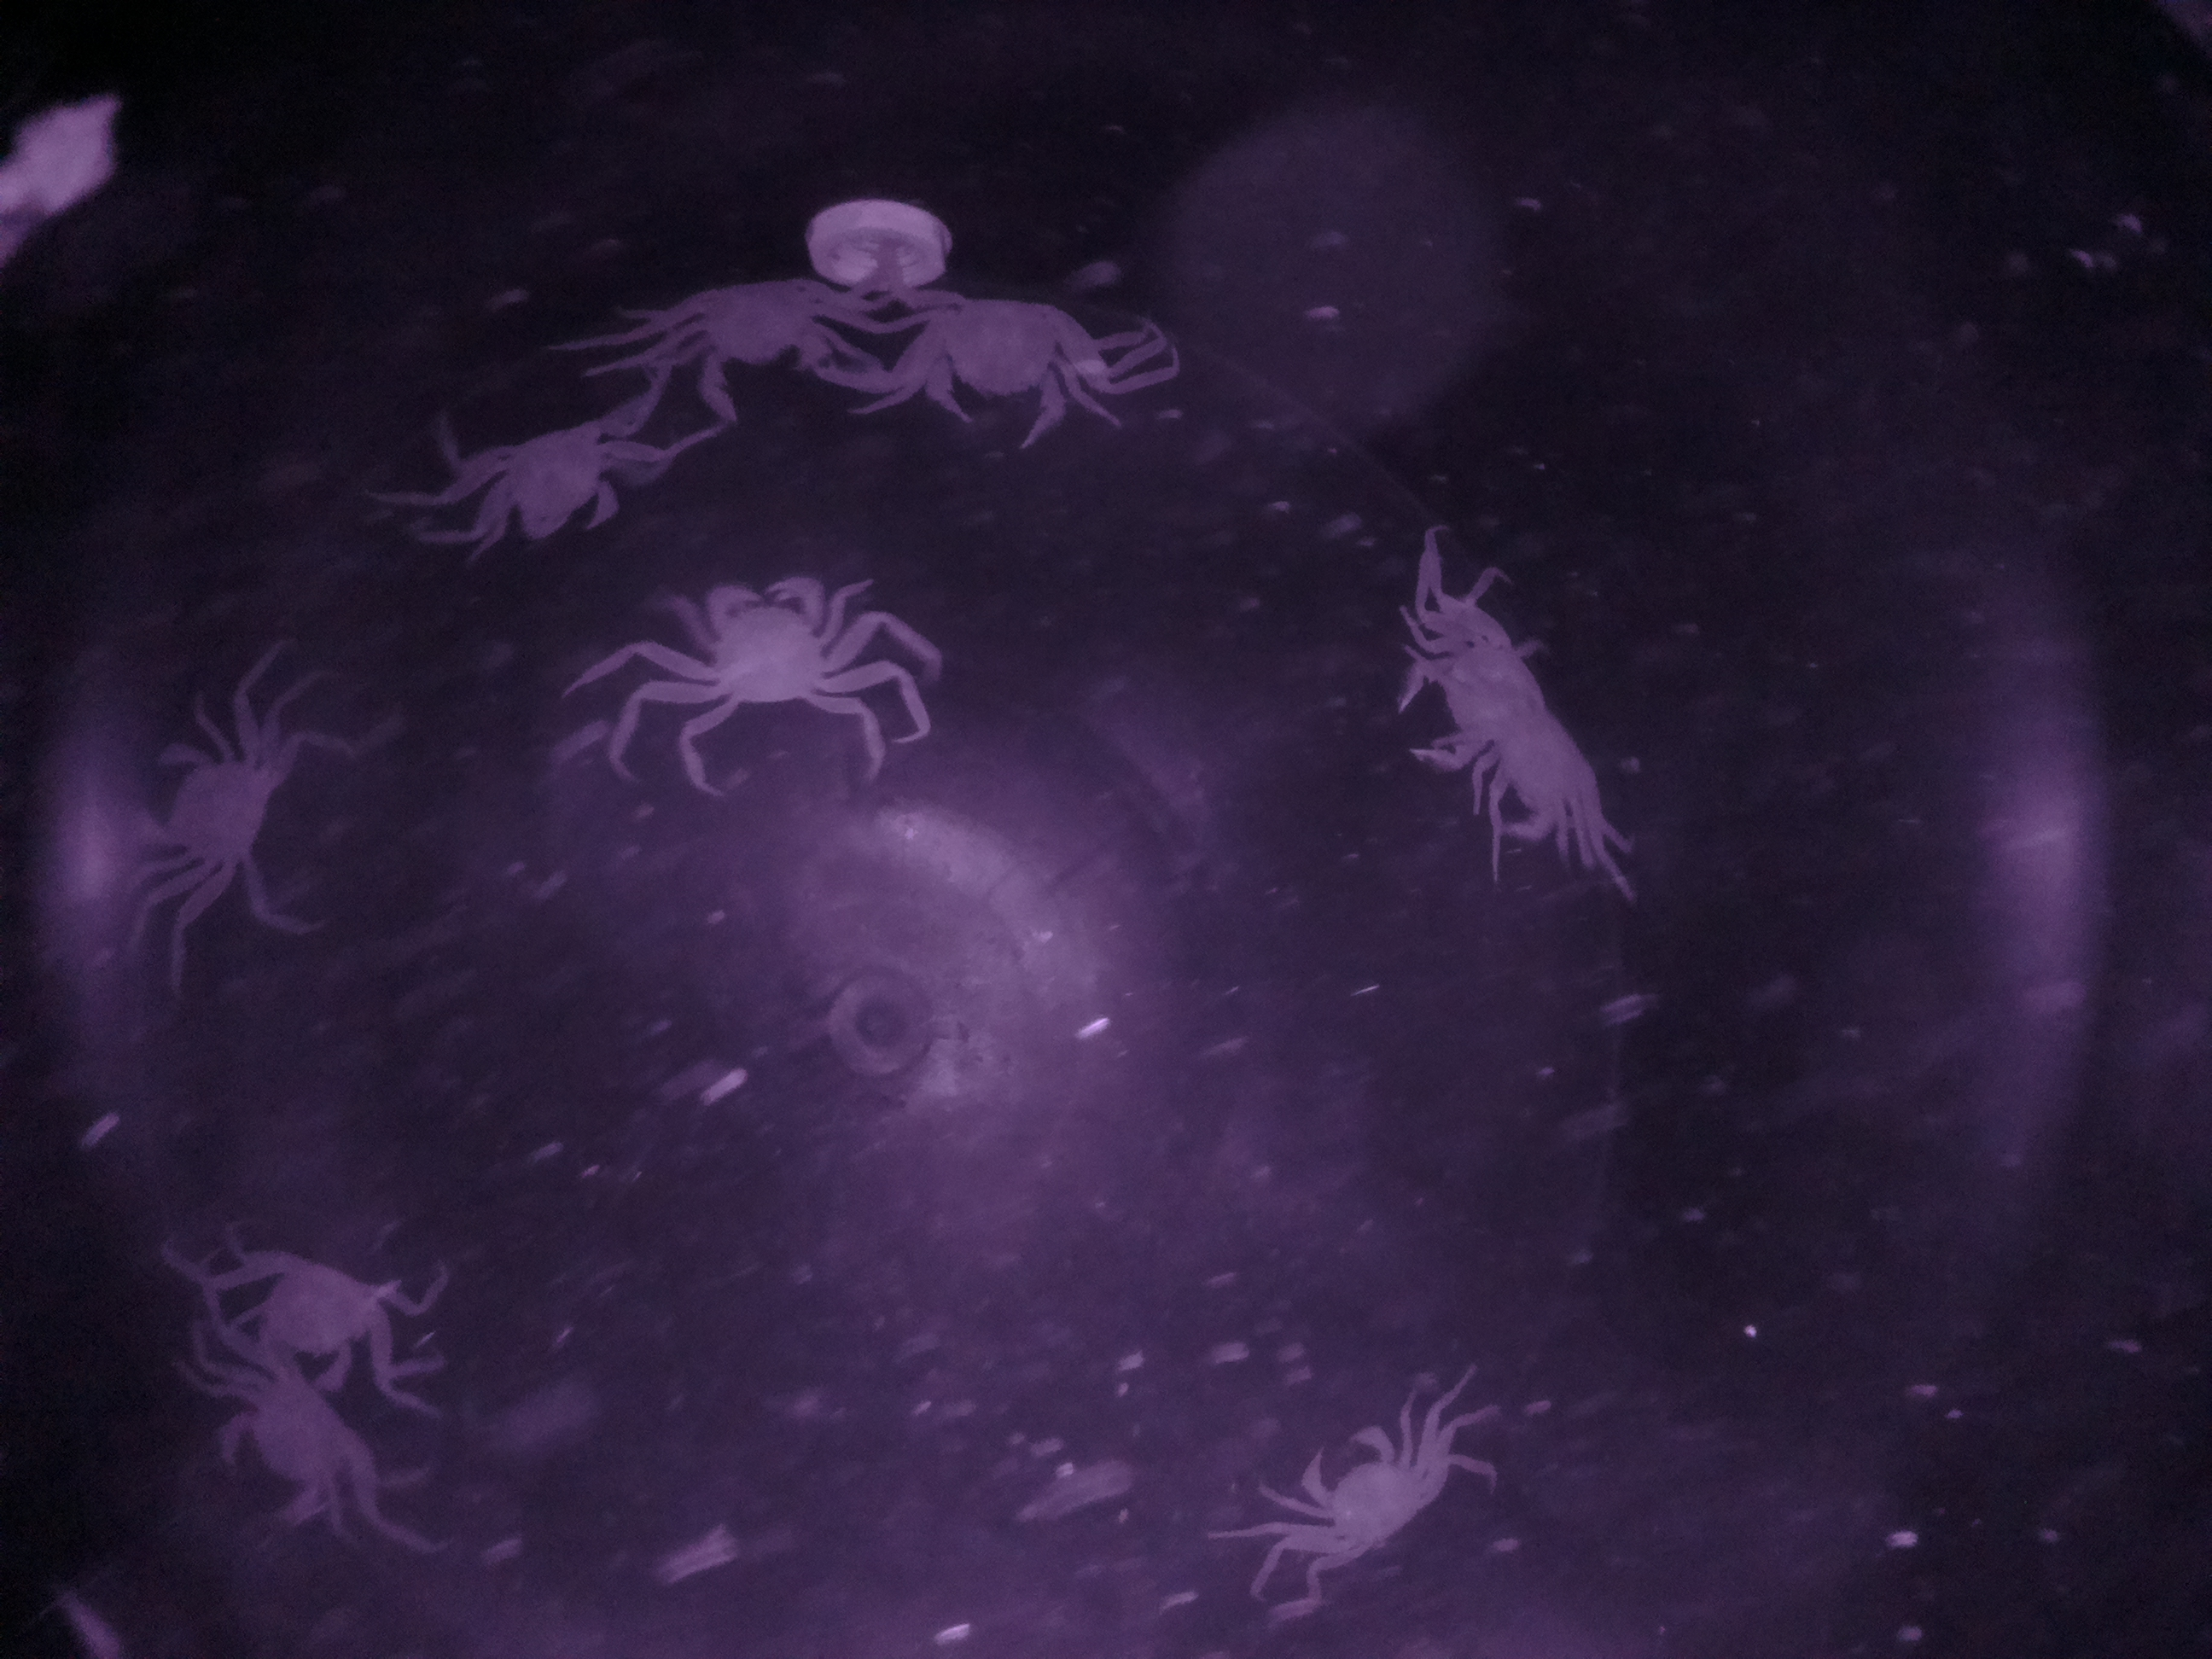Crab: (199, 1333, 394, 1570), (890, 274, 1118, 455), (657, 254, 859, 441), (667, 549, 848, 746), (120, 713, 296, 887), (1282, 1406, 1453, 1577)
